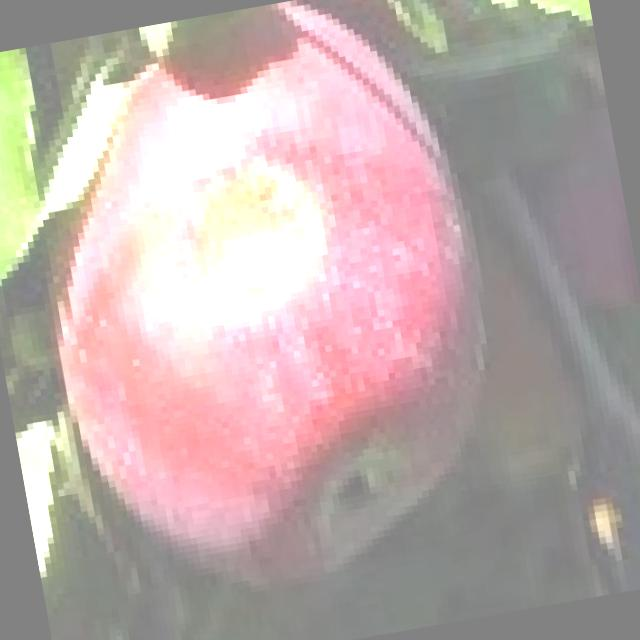Apple: (6, 0, 527, 612)
